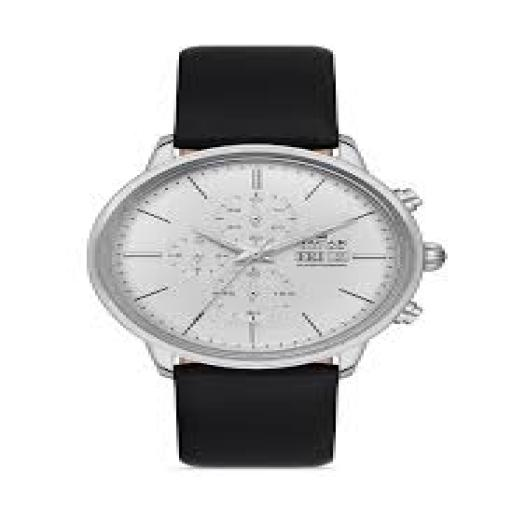KolSaati: (56, 26, 458, 473)
